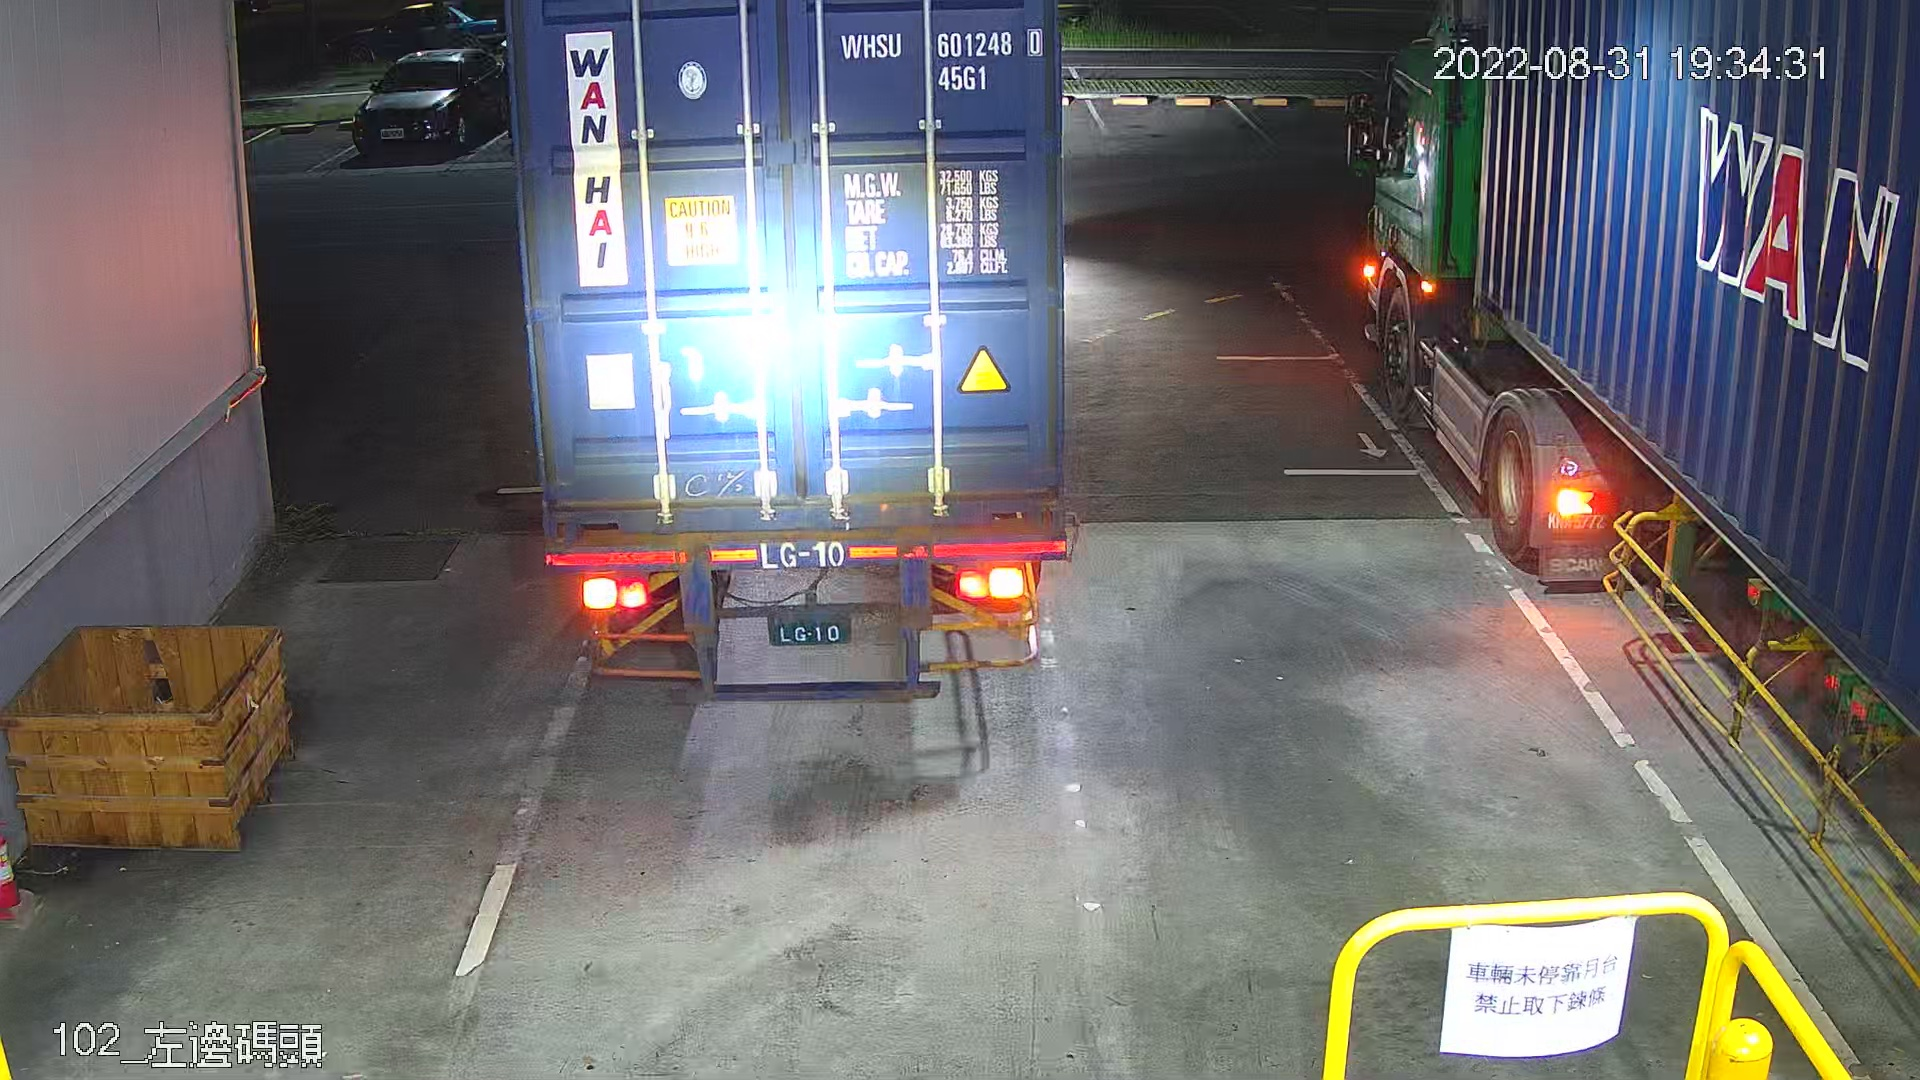container: (835, 20, 1050, 98)
